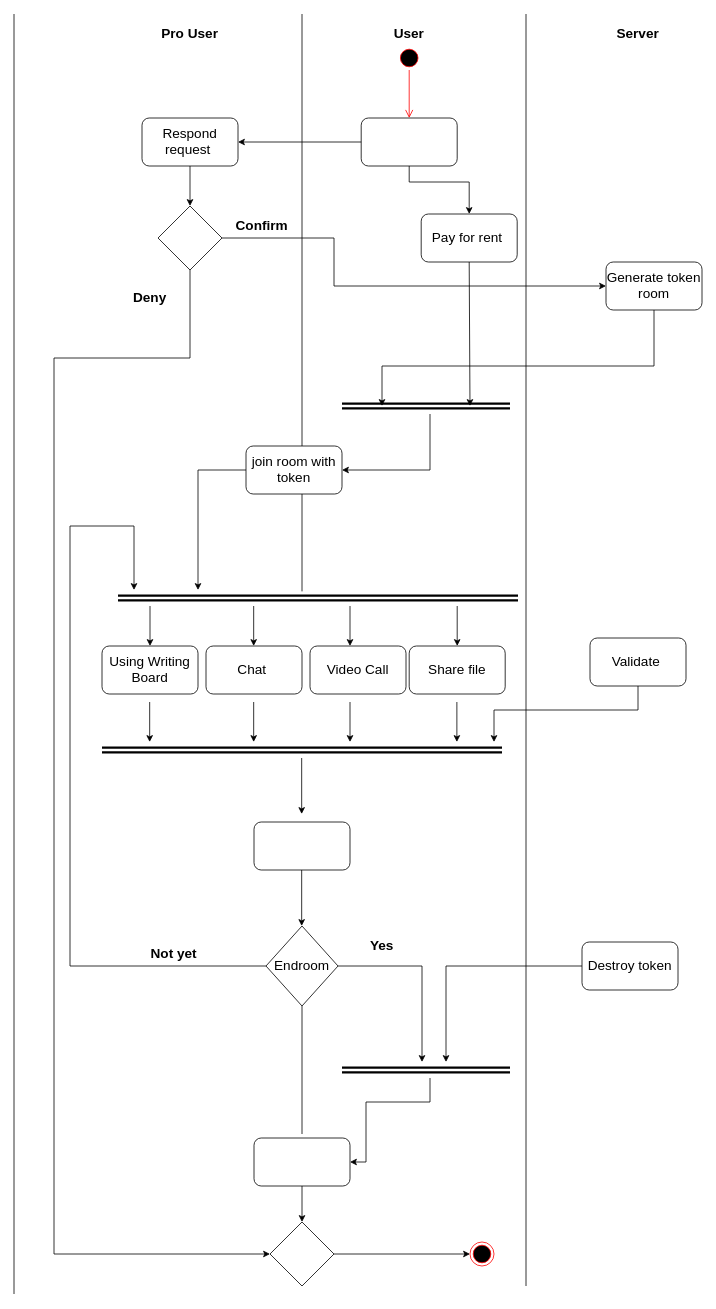
Image size: 716x1309. Some labels were removed from this diagram. Each missing label, with the box of its shape:
End Active Room: (253, 1137, 350, 1186)
Interact with each other: (253, 821, 350, 870)
request or renting: (360, 117, 457, 166)
